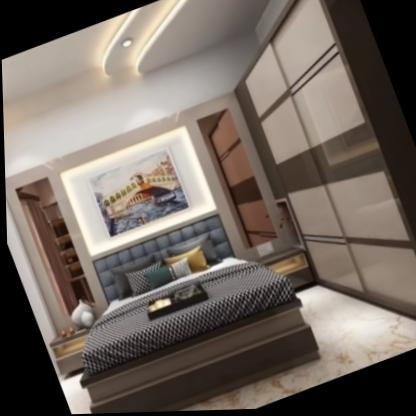Bed: (39, 188, 329, 415)
Closet: (209, 0, 416, 365)
Frame: (79, 141, 197, 244)
Gypsum Board: (0, 0, 244, 155)
